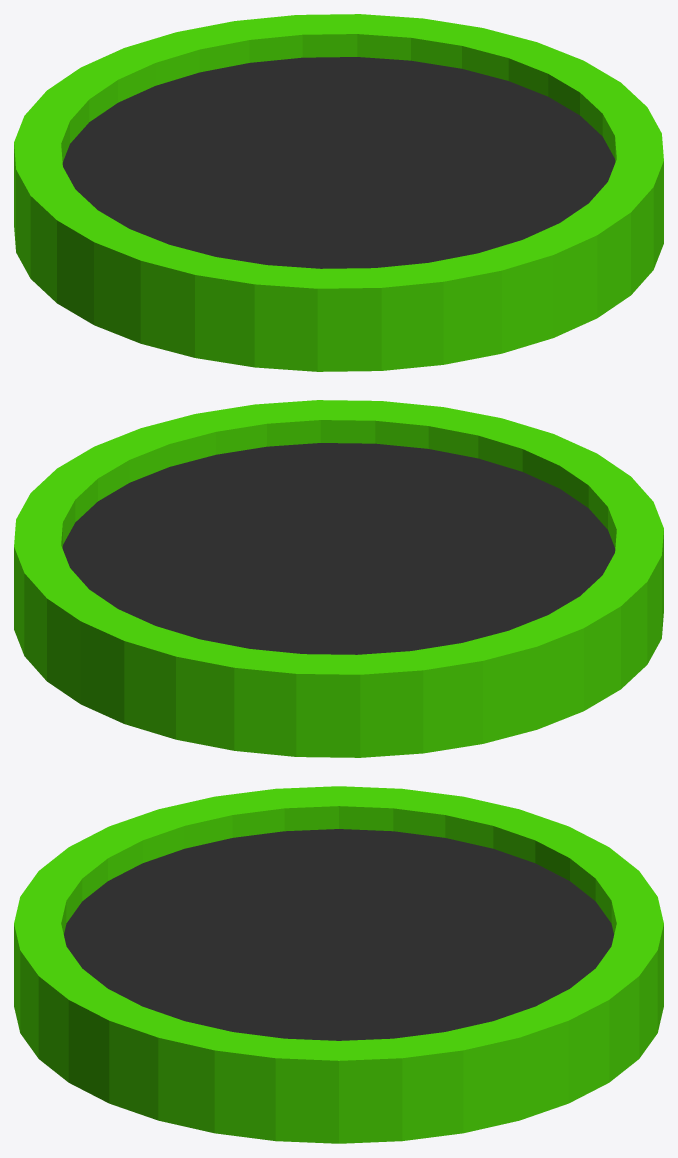
File: jumppad.fbx
3 views of the same model, one above another, from view 1: azimuth 30°, elevation 25°; view 2: azimuth 150°, elevation 25°; view 3: azimuth 270°, elevation 25° (orthographic).
Visible parts, largest first — view 1: Cylinder, Cylinder.001; view 2: Cylinder, Cylinder.001; view 3: Cylinder, Cylinder.001.
Boxes of the visible parts, x1=… form: Cylinder: x1=14, y1=14, x2=663, y2=371; Cylinder.001: x1=62, y1=57, x2=615, y2=268; Cylinder: x1=14, y1=400, x2=663, y2=757; Cylinder.001: x1=62, y1=443, x2=615, y2=654; Cylinder: x1=14, y1=786, x2=663, y2=1143; Cylinder.001: x1=64, y1=829, x2=613, y2=1040.
Bounding box in the file's own units: 234 × 32.96 × 234.
